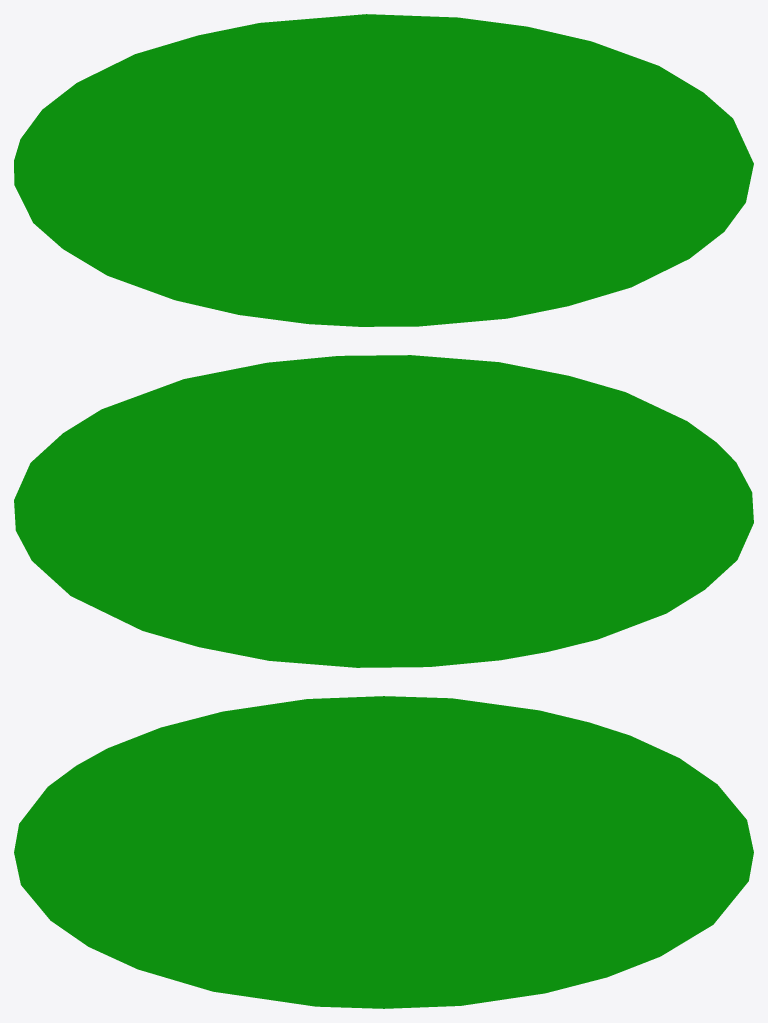
The model's file is M_PipeHole_Mask.fbx.
The picture shows the model from 3 angles, top to bottom: view 1: azimuth 30°, elevation 25°; view 2: azimuth 150°, elevation 25°; view 3: azimuth 270°, elevation 25°; orthographic projection.
Parts seen in each view (by area): view 1: Cylinder; view 2: Cylinder; view 3: Cylinder.
Part boxes in pixels (x1=…): Cylinder: x1=14, y1=14, x2=753, y2=326; Cylinder: x1=14, y1=355, x2=753, y2=667; Cylinder: x1=14, y1=696, x2=753, y2=1008.
Bounding box in the file's own units: 266 × 266 × 6.1e-05.
